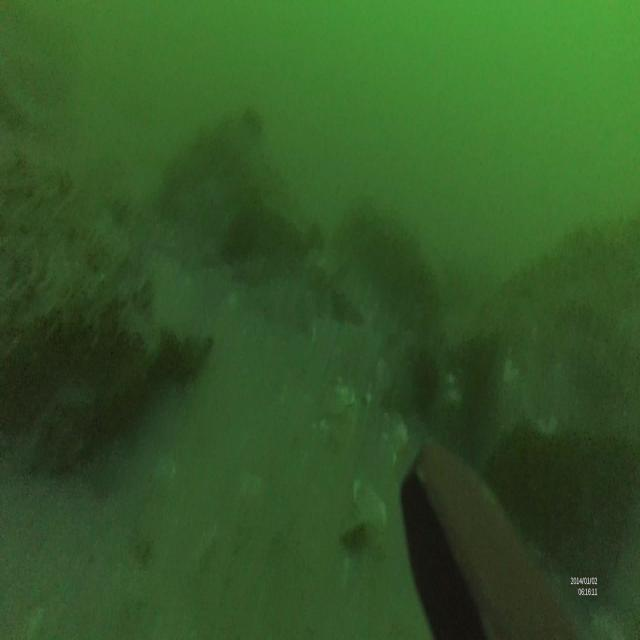echinus: (409, 348, 443, 427)
